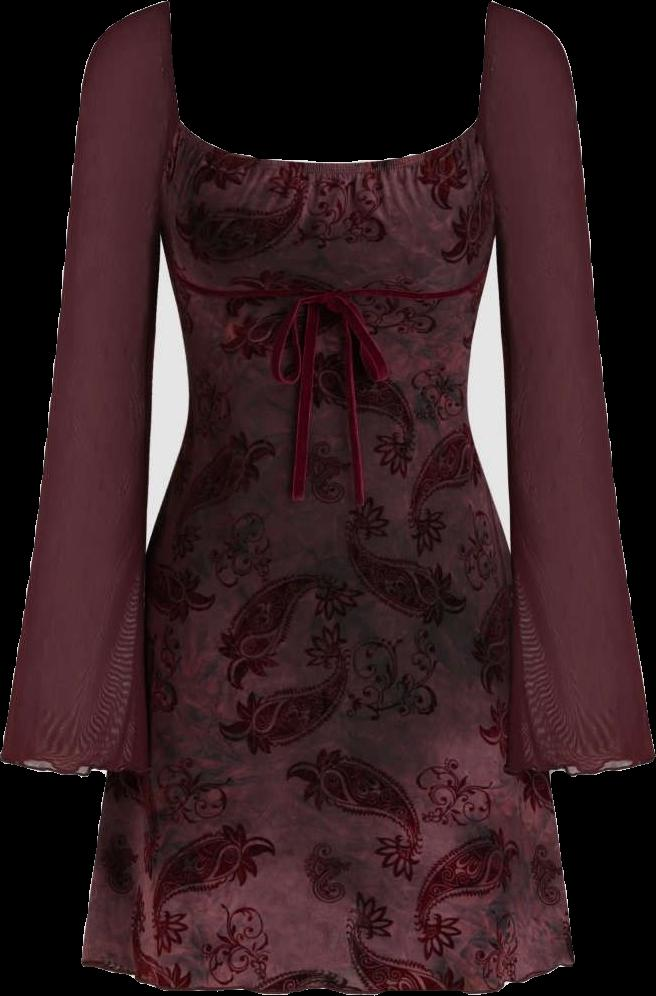Bodice: (160, 109, 494, 431)
Hemline: (79, 951, 575, 995)
Neckline: (174, 113, 487, 170)
Skirt: (82, 432, 573, 995)
Sleeve: (0, 1, 178, 776), (480, 2, 654, 780)
Sleeveline: (154, 0, 502, 238)
